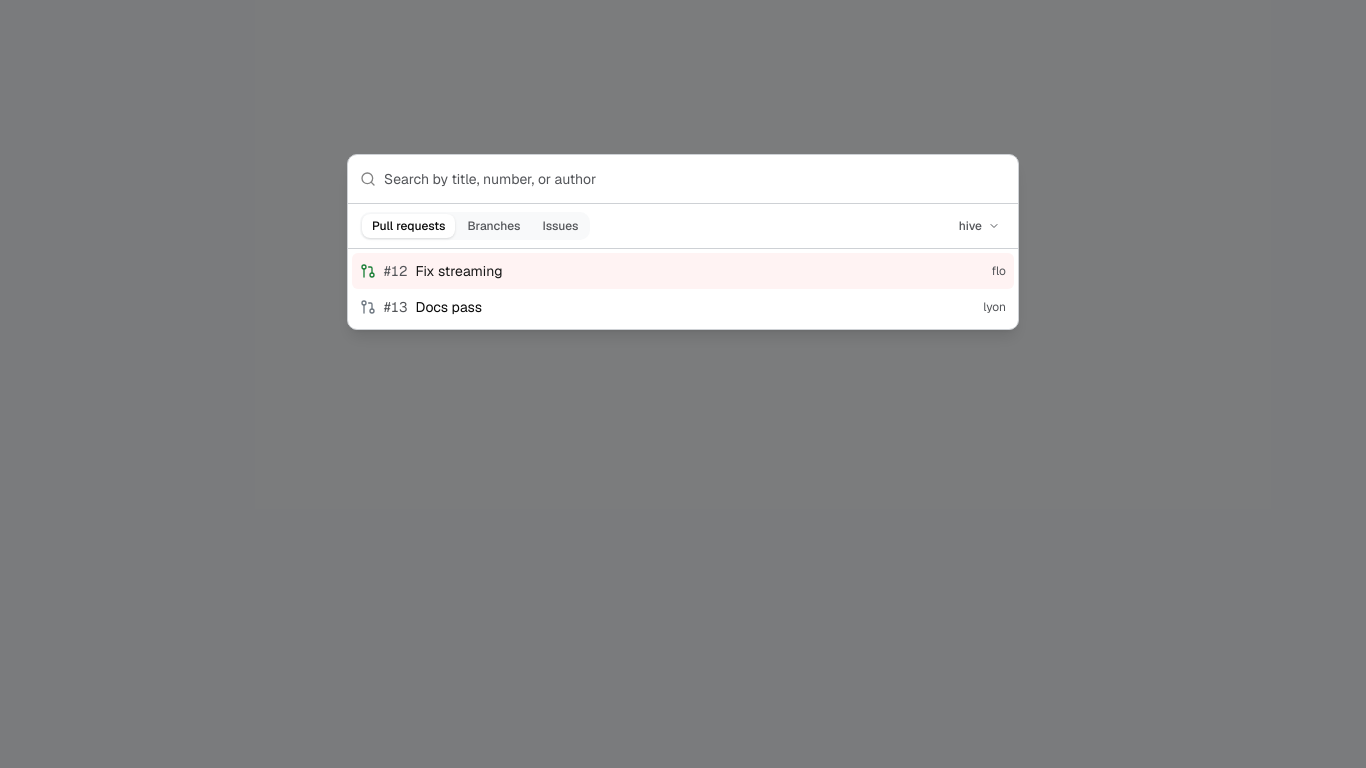
it: NewWorkspaceFromDialog › filters rows from the search input
The width and height of the screenshot is (1366, 768).
Expected: the text "Fix streaming" is shown, [416,261,503,281]
Type "docs" into the field with placeholder "Search by title, number, or author".
click(695, 179); type("docs")  # box [384,155,1006,203]
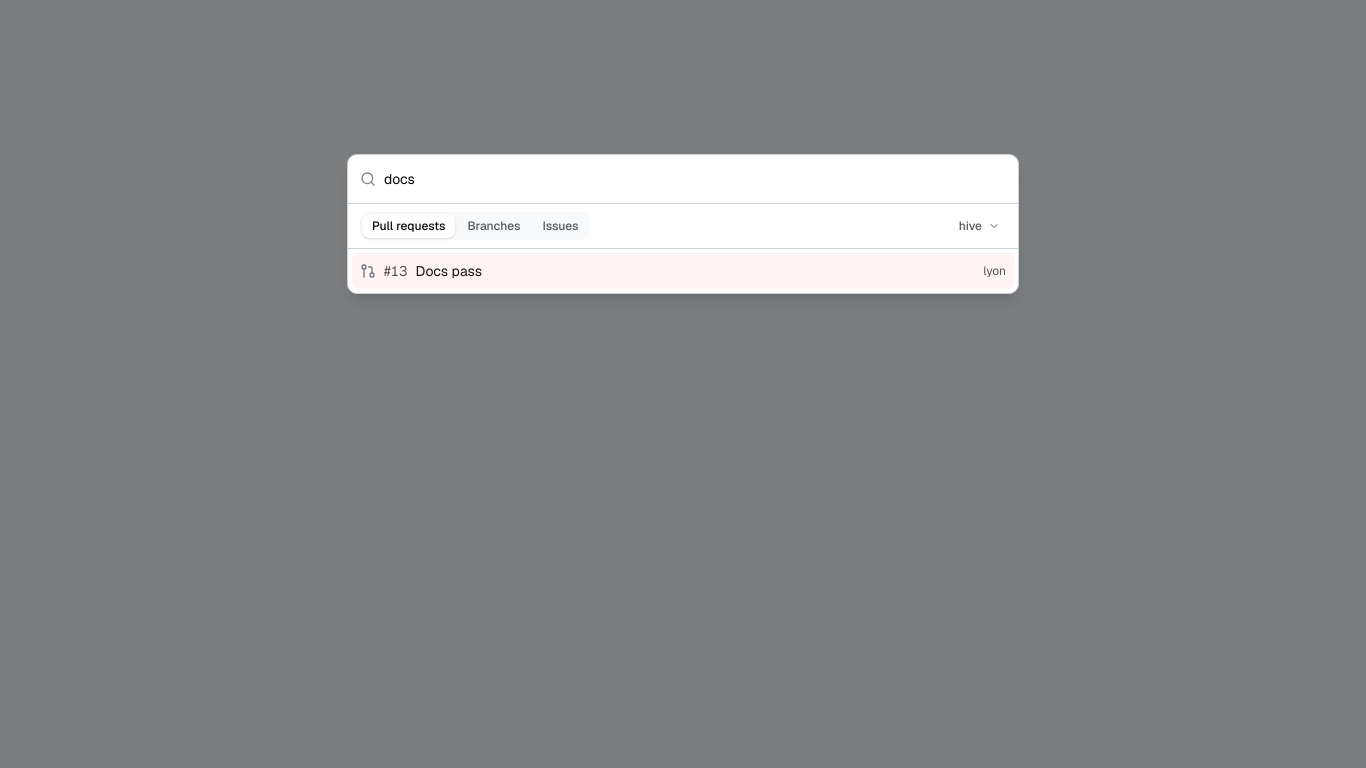
Expected: the text "Docs pass" is shown, [416,261,482,281]
Now the option "Fix streaming" is gone
